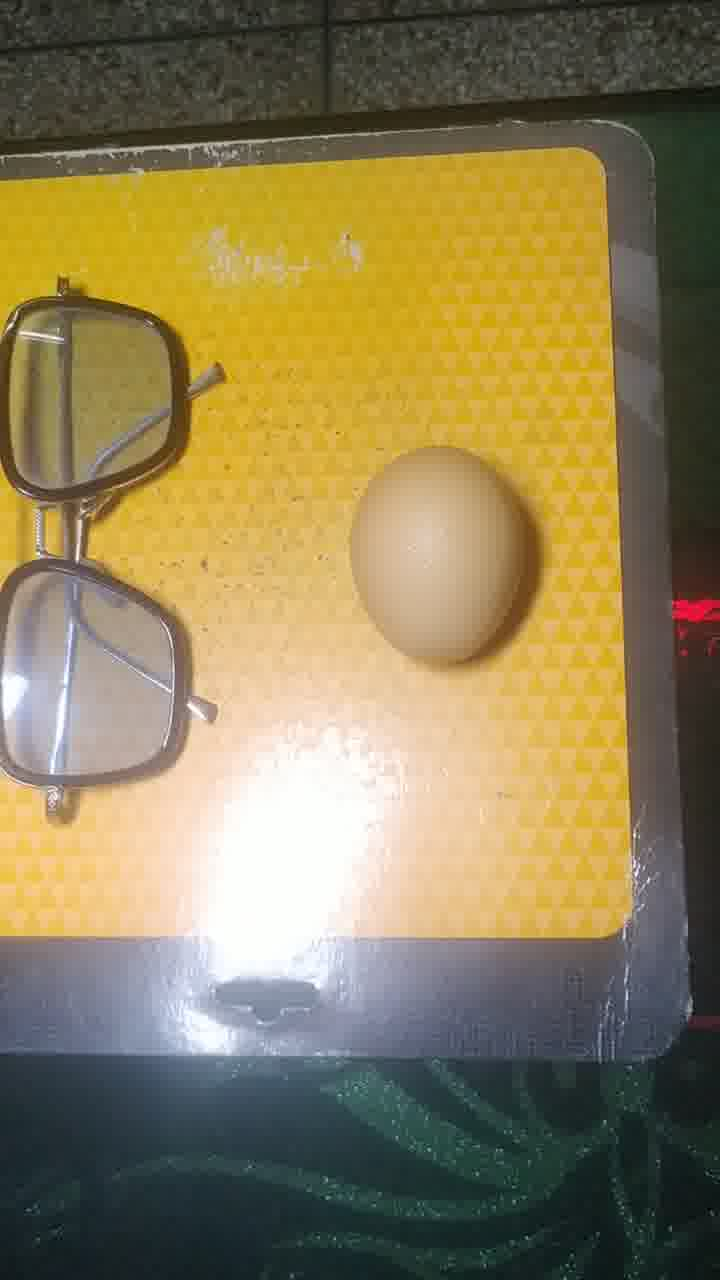egg: (348, 444, 531, 673)
sunglass: (3, 278, 237, 833)
